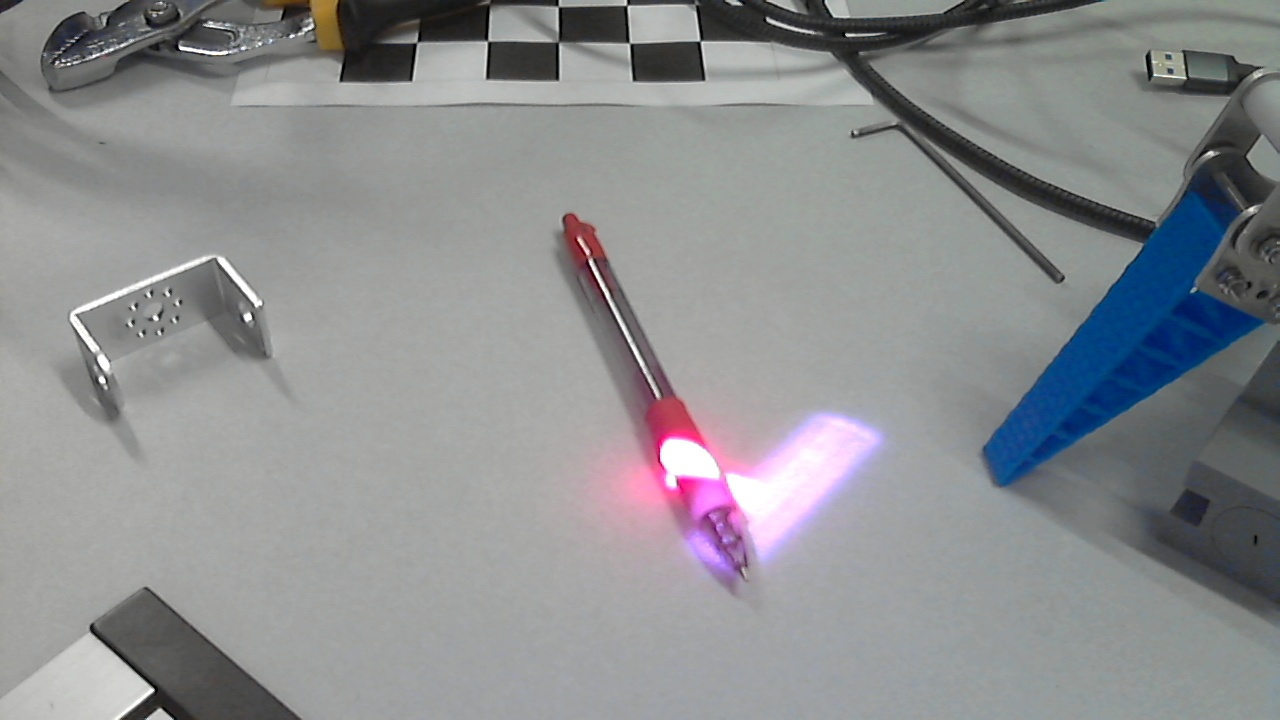Object ballpoint pen - Material rubber - Color red - Pdfname Tg2wygrqE5uZ: (616, 388, 773, 519)
